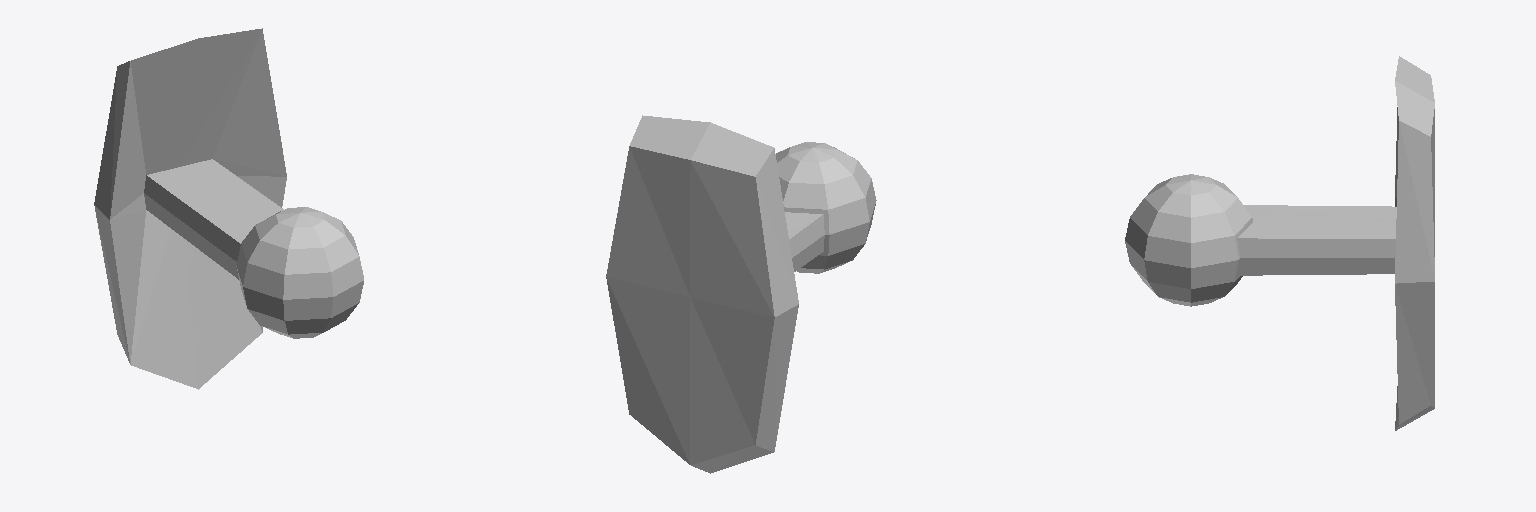
Rendered from anotherOne2.obj.
3 views of the same model, side by side, from view 1: azimuth 30°, elevation 25°; view 2: azimuth 150°, elevation 25°; view 3: azimuth 270°, elevation 25° (orthographic).
Parts seen in each view (by area): view 1: Sphere; view 2: Sphere; view 3: Sphere.
Boxes of the visible parts, box(x1,y1,x2,y2) form: Sphere: box(94, 28, 363, 389); Sphere: box(606, 115, 876, 473); Sphere: box(1125, 56, 1434, 430).
Size of the model in its own units: 3.08 by 5.84 by 4.68.